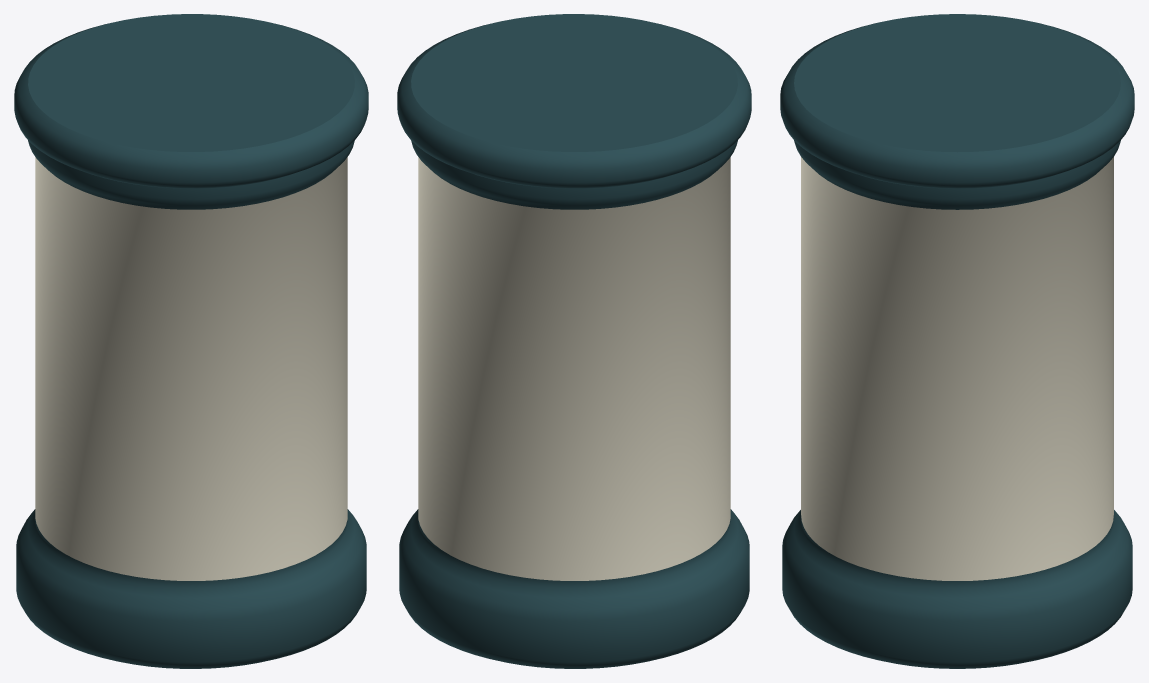
Rendered from d06_poster_drum_01.glb.
3 views of the same model, side by side, from view 1: azimuth 30°, elevation 25°; view 2: azimuth 150°, elevation 25°; view 3: azimuth 270°, elevation 25° (orthographic).
Parts seen in each view (by area): view 1: D06PosterDrum01_Body, D06PosterDrum01_Cap; view 2: D06PosterDrum01_Body, D06PosterDrum01_Cap; view 3: D06PosterDrum01_Body, D06PosterDrum01_Cap.
Boxes of the visible parts, x1,y1,x2,y2 form: D06PosterDrum01_Body: (16, 140, 366, 668); D06PosterDrum01_Cap: (14, 14, 368, 188); D06PosterDrum01_Body: (399, 140, 749, 668); D06PosterDrum01_Cap: (397, 14, 751, 188); D06PosterDrum01_Body: (782, 140, 1132, 668); D06PosterDrum01_Cap: (780, 14, 1134, 188).
Size of the model in its own units: 0.9 by 1.45 by 0.9.
